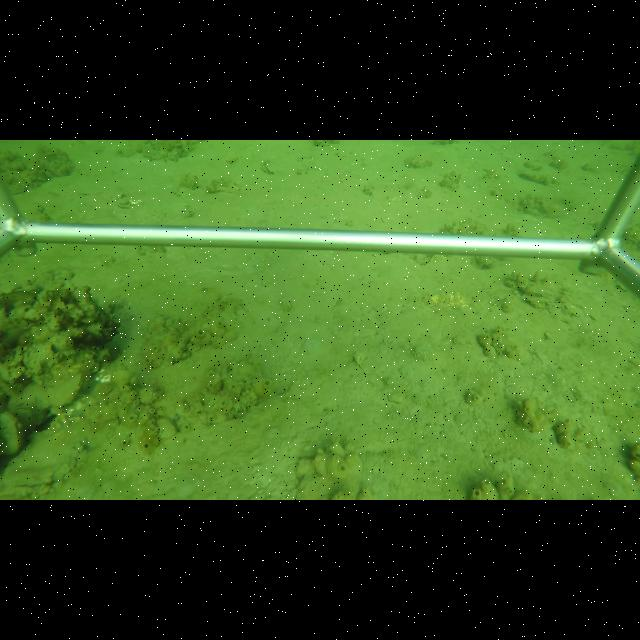Oyster-Closed: (42, 372, 83, 409), (4, 411, 24, 456)
